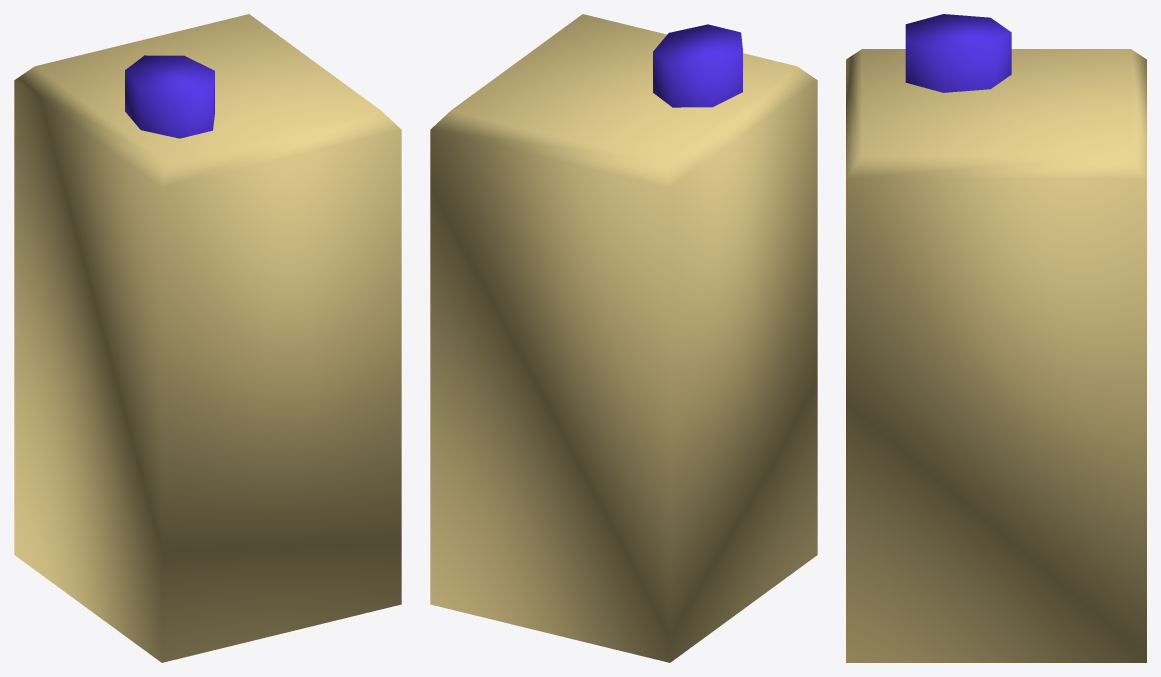
Rendered from succo_mela_mini.fbx.
3 views of the same model, side by side, from view 1: azimuth 30°, elevation 25°; view 2: azimuth 150°, elevation 25°; view 3: azimuth 270°, elevation 25° (orthographic).
Parts seen in each view (by area): view 1: mela_mini; view 2: mela_mini; view 3: mela_mini.
Part boxes in pixels (left/top/right/bottom): mela_mini: left=14, top=14, right=401, bottom=662; mela_mini: left=430, top=14, right=817, bottom=662; mela_mini: left=846, top=14, right=1146, bottom=662.
Size of the model in its own units: 66.34 by 141 by 70.7.
